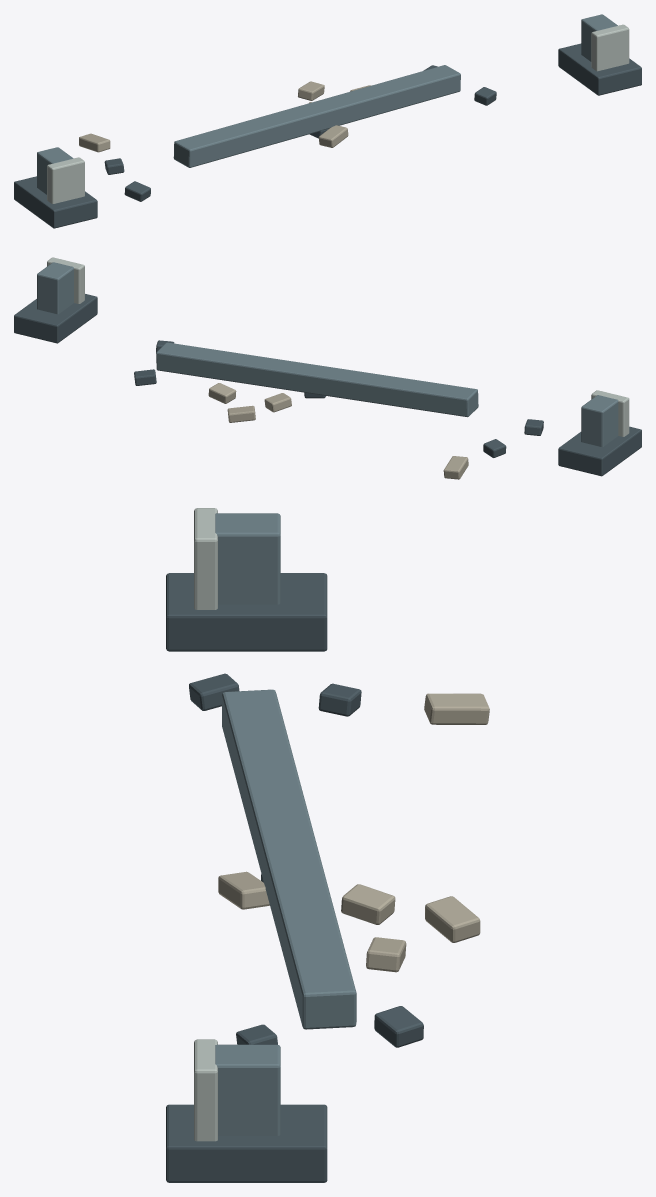
File: gantry_module_d3.glb
3 views of the same model, one above another, from view 1: azimuth 30°, elevation 25°; view 2: azimuth 150°, elevation 25°; view 3: azimuth 270°, elevation 25° (orthographic). The views are drawn at different scales.
Parts seen in each view (by area): view 1: Fallen truss fragment.003, Gantry footing.031, Gantry footing.030, Column armor.031, Column armor.030, Gantry column.031, Gantry column.030, Debris fragment.095, Debris fragment.097, Debris fragment.099, Debris fragment.092, Debris fragment.098; view 2: Fallen truss fragment.003, Gantry footing.030, Gantry footing.031, Gantry column.030, Gantry column.031, Column armor.030, Column armor.031, Debris fragment.097, Debris fragment.099, Debris fragment.091, Debris fragment.093, Debris fragment.094 (+1 smaller); view 3: Fallen truss fragment.003, Gantry footing.030, Gantry footing.031, Gantry column.030, Gantry column.031, Column armor.031, Column armor.030, Debris fragment.097, Debris fragment.099, Debris fragment.093, Debris fragment.094, Debris fragment.095 (+3 smaller).
Part boxes in pixels (bbox=[...]): Fallen truss fragment.003: bbox=[173, 65, 460, 167]; Gantry footing.031: bbox=[558, 43, 641, 95]; Gantry footing.030: bbox=[14, 176, 97, 228]; Column armor.031: bbox=[591, 24, 629, 71]; Column armor.030: bbox=[47, 157, 84, 203]; Gantry column.031: bbox=[581, 14, 617, 61]; Gantry column.030: bbox=[37, 147, 73, 194]; Debris fragment.095: bbox=[318, 125, 348, 147]; Debris fragment.097: bbox=[79, 133, 110, 152]; Debris fragment.099: bbox=[298, 81, 324, 100]; Debris fragment.092: bbox=[124, 181, 150, 201]; Debris fragment.098: bbox=[474, 87, 496, 105]; Fallen truss fragment.003: bbox=[156, 342, 478, 417]; Gantry footing.030: bbox=[558, 426, 641, 476]; Gantry footing.031: bbox=[14, 294, 97, 343]; Gantry column.030: bbox=[581, 395, 618, 446]; Gantry column.031: bbox=[37, 262, 73, 314]; Column armor.030: bbox=[591, 390, 629, 436]; Column armor.031: bbox=[47, 257, 84, 303]; Debris fragment.097: bbox=[443, 456, 468, 479]; Debris fragment.099: bbox=[227, 405, 255, 422]; Debris fragment.091: bbox=[208, 383, 236, 403]; Debris fragment.093: bbox=[264, 393, 291, 412]; Debris fragment.094: bbox=[134, 369, 156, 385]; Fallen truss fragment.003: bbox=[222, 689, 356, 1029]; Gantry footing.030: bbox=[166, 573, 327, 651]; Gantry footing.031: bbox=[166, 1104, 327, 1182]; Gantry column.030: bbox=[215, 513, 280, 604]; Gantry column.031: bbox=[215, 1044, 280, 1135]; Column armor.031: bbox=[194, 1039, 217, 1141]; Column armor.030: bbox=[194, 508, 217, 609]; Debris fragment.097: bbox=[424, 693, 489, 724]; Debris fragment.099: bbox=[425, 896, 480, 942]; Debris fragment.093: bbox=[341, 884, 395, 924]; Debris fragment.094: bbox=[374, 1006, 423, 1047]; Debris fragment.095: bbox=[218, 871, 269, 909].
Size of the model in its own units: 8 by 0.7096 by 1.91.
